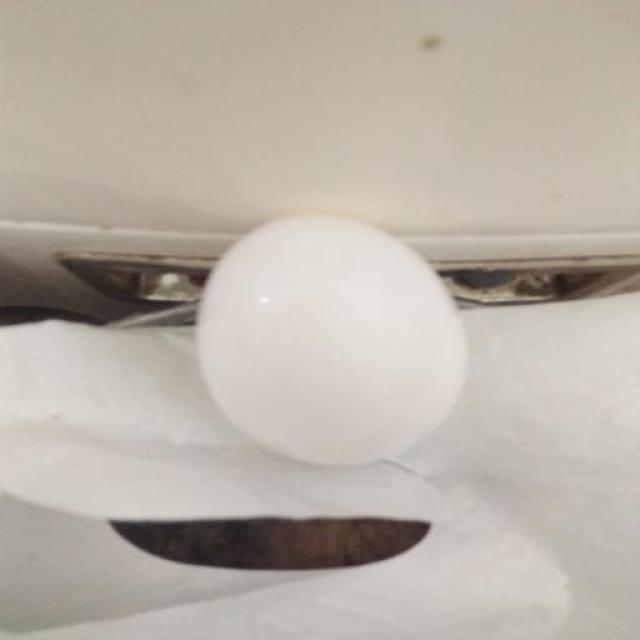telur: (194, 215, 464, 466)
